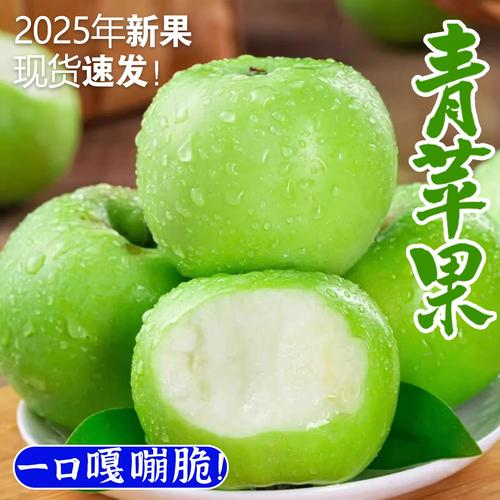unripe: (120, 45, 408, 281), (126, 270, 406, 492), (0, 177, 202, 452), (324, 173, 500, 416)
